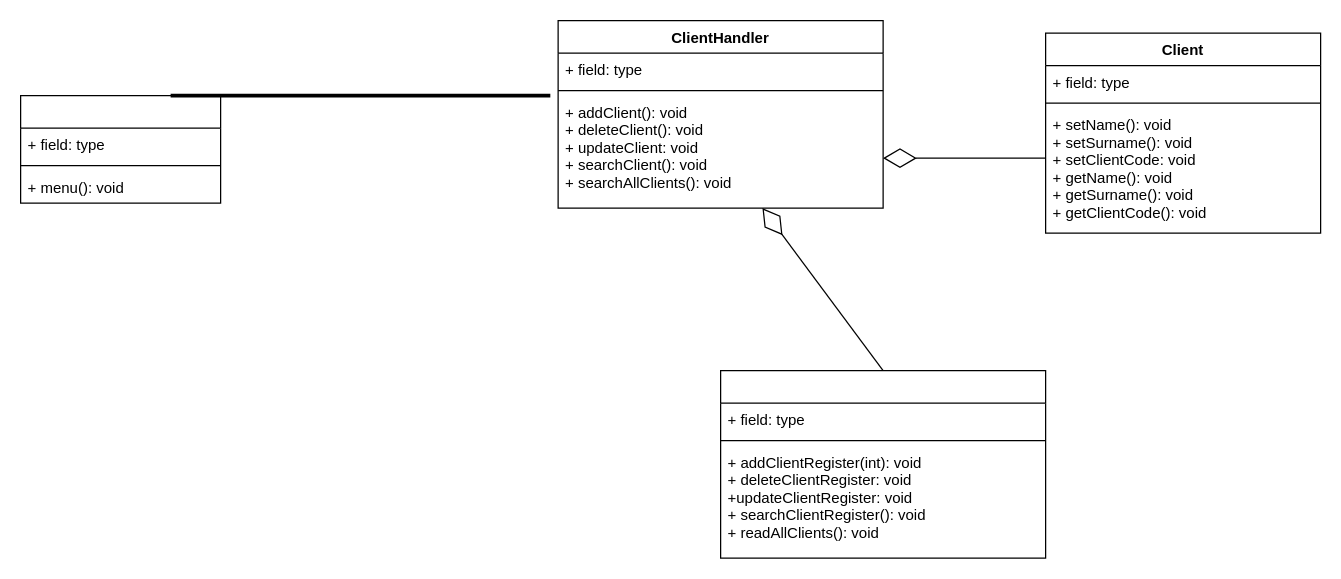
Some shapes in this 1341 by 579 pixel diagram are drawn without their labels. The box of each missing label's shape, as (x1, y1, x2, y2) in pixels:
DBHandler: (719, 369, 1046, 558)
Gui: (19, 94, 221, 203)
